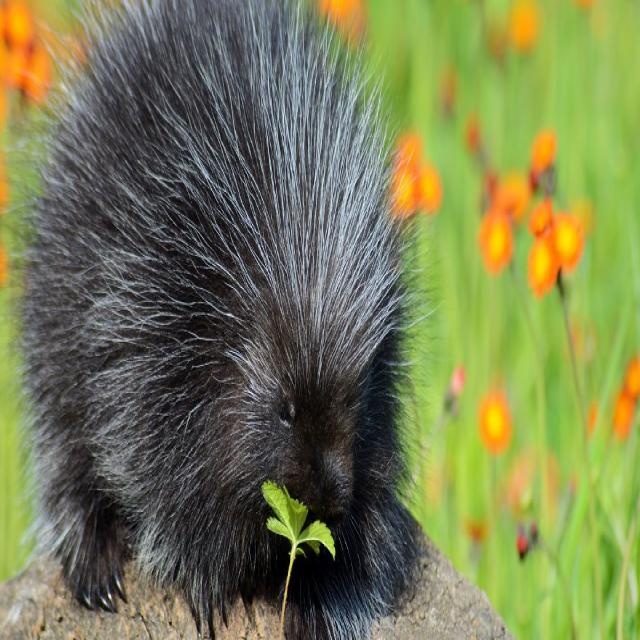Porcupine: (35, 11, 403, 602)
